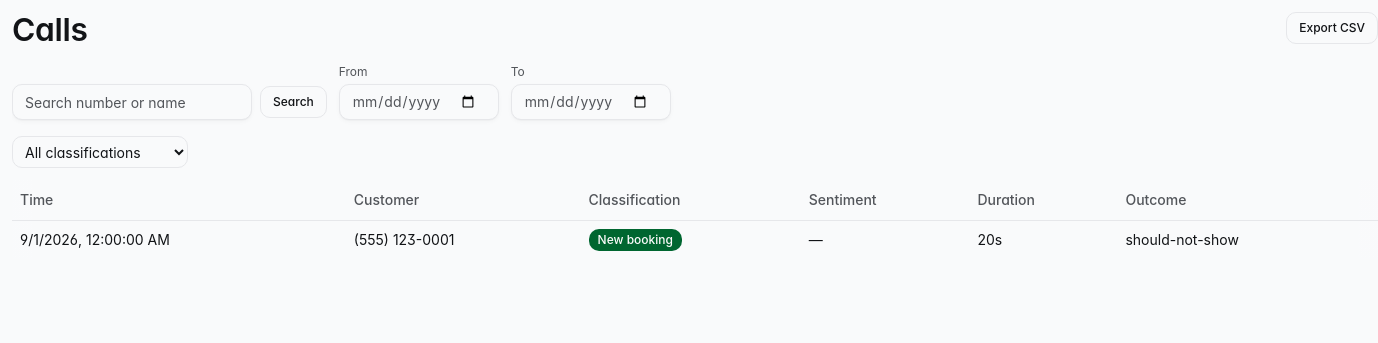
CallsListClient › a search that can match nothing shows the filtered empty state without querying everything
The image size is (1378, 343).
Expected: the text "should-not-show" is shown, [1117,220,1377,259]
In the field named "Search calls by number or name": (132, 102) [12,84,252,120], type "Nobody"
Then press Enter
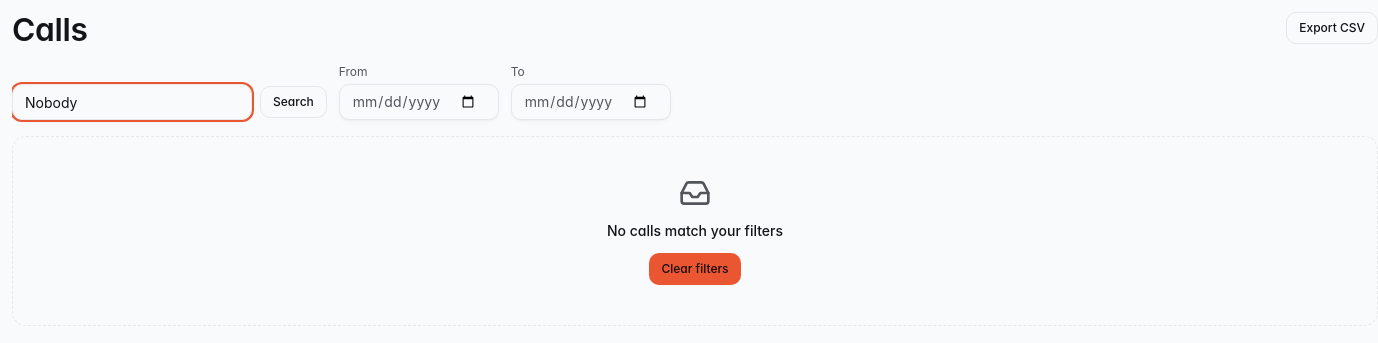
Expected: the text "No calls match your filters" is shown, [607,222,783,242]
Expected: the text "should-not-show" is gone
